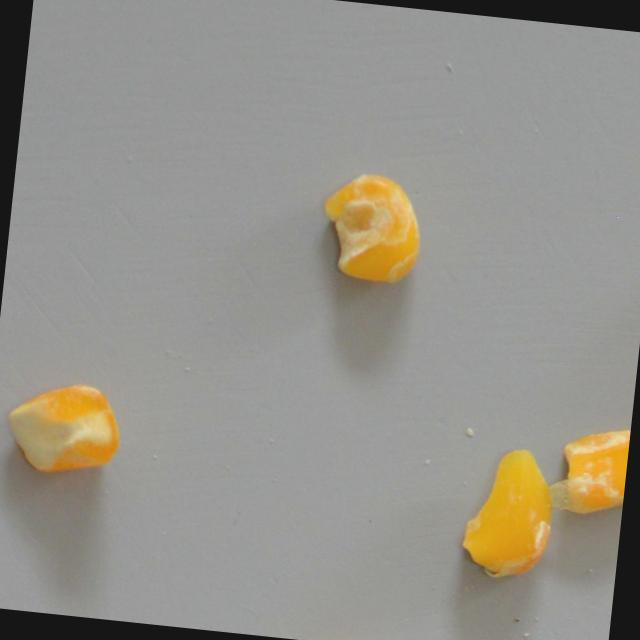pelicula: (457, 443, 563, 585), (314, 167, 427, 289), (0, 376, 126, 483), (550, 419, 631, 520)
